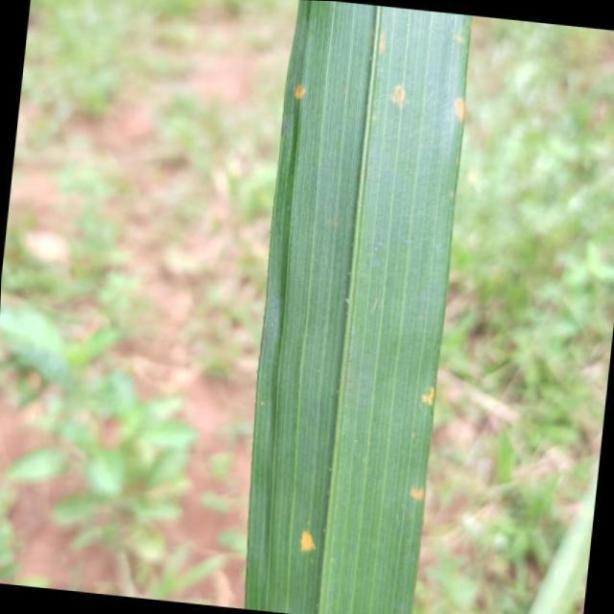Kalium: (243, 1, 473, 614)
